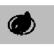correct: (6, 11, 40, 36)
